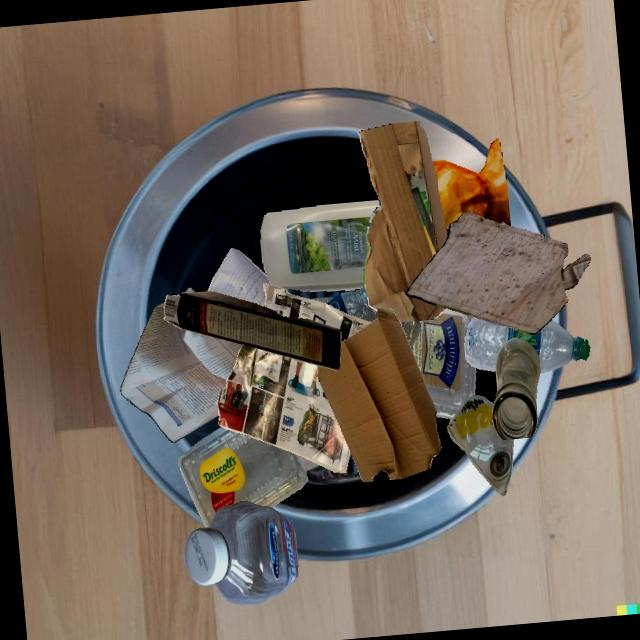biowaste: (431, 137, 511, 229)
cardboard: (316, 307, 441, 482), (357, 121, 448, 322), (164, 291, 341, 370)
glass: (447, 394, 513, 496), (492, 337, 540, 439)
paper: (406, 211, 591, 334), (216, 344, 350, 472), (120, 304, 243, 442), (207, 247, 270, 307)
plastic: (178, 426, 308, 527), (184, 500, 298, 605), (260, 200, 380, 291), (410, 308, 475, 419), (464, 316, 590, 372), (326, 286, 377, 322), (400, 321, 421, 347)
